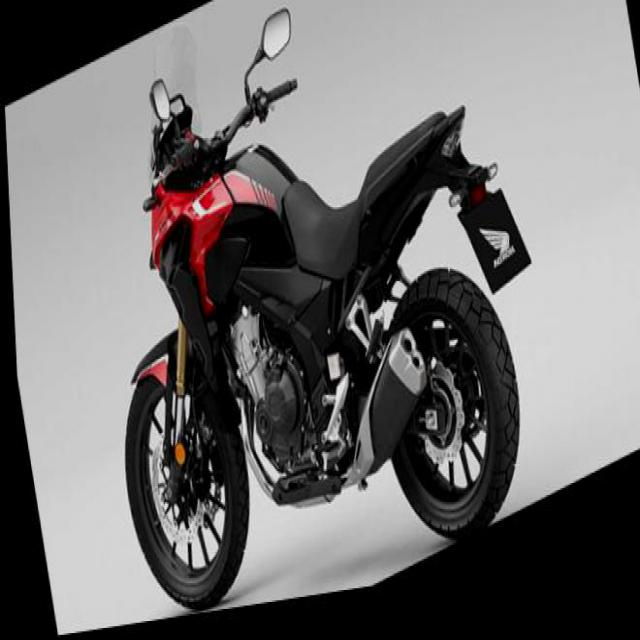CB500X: (57, 0, 542, 632)
